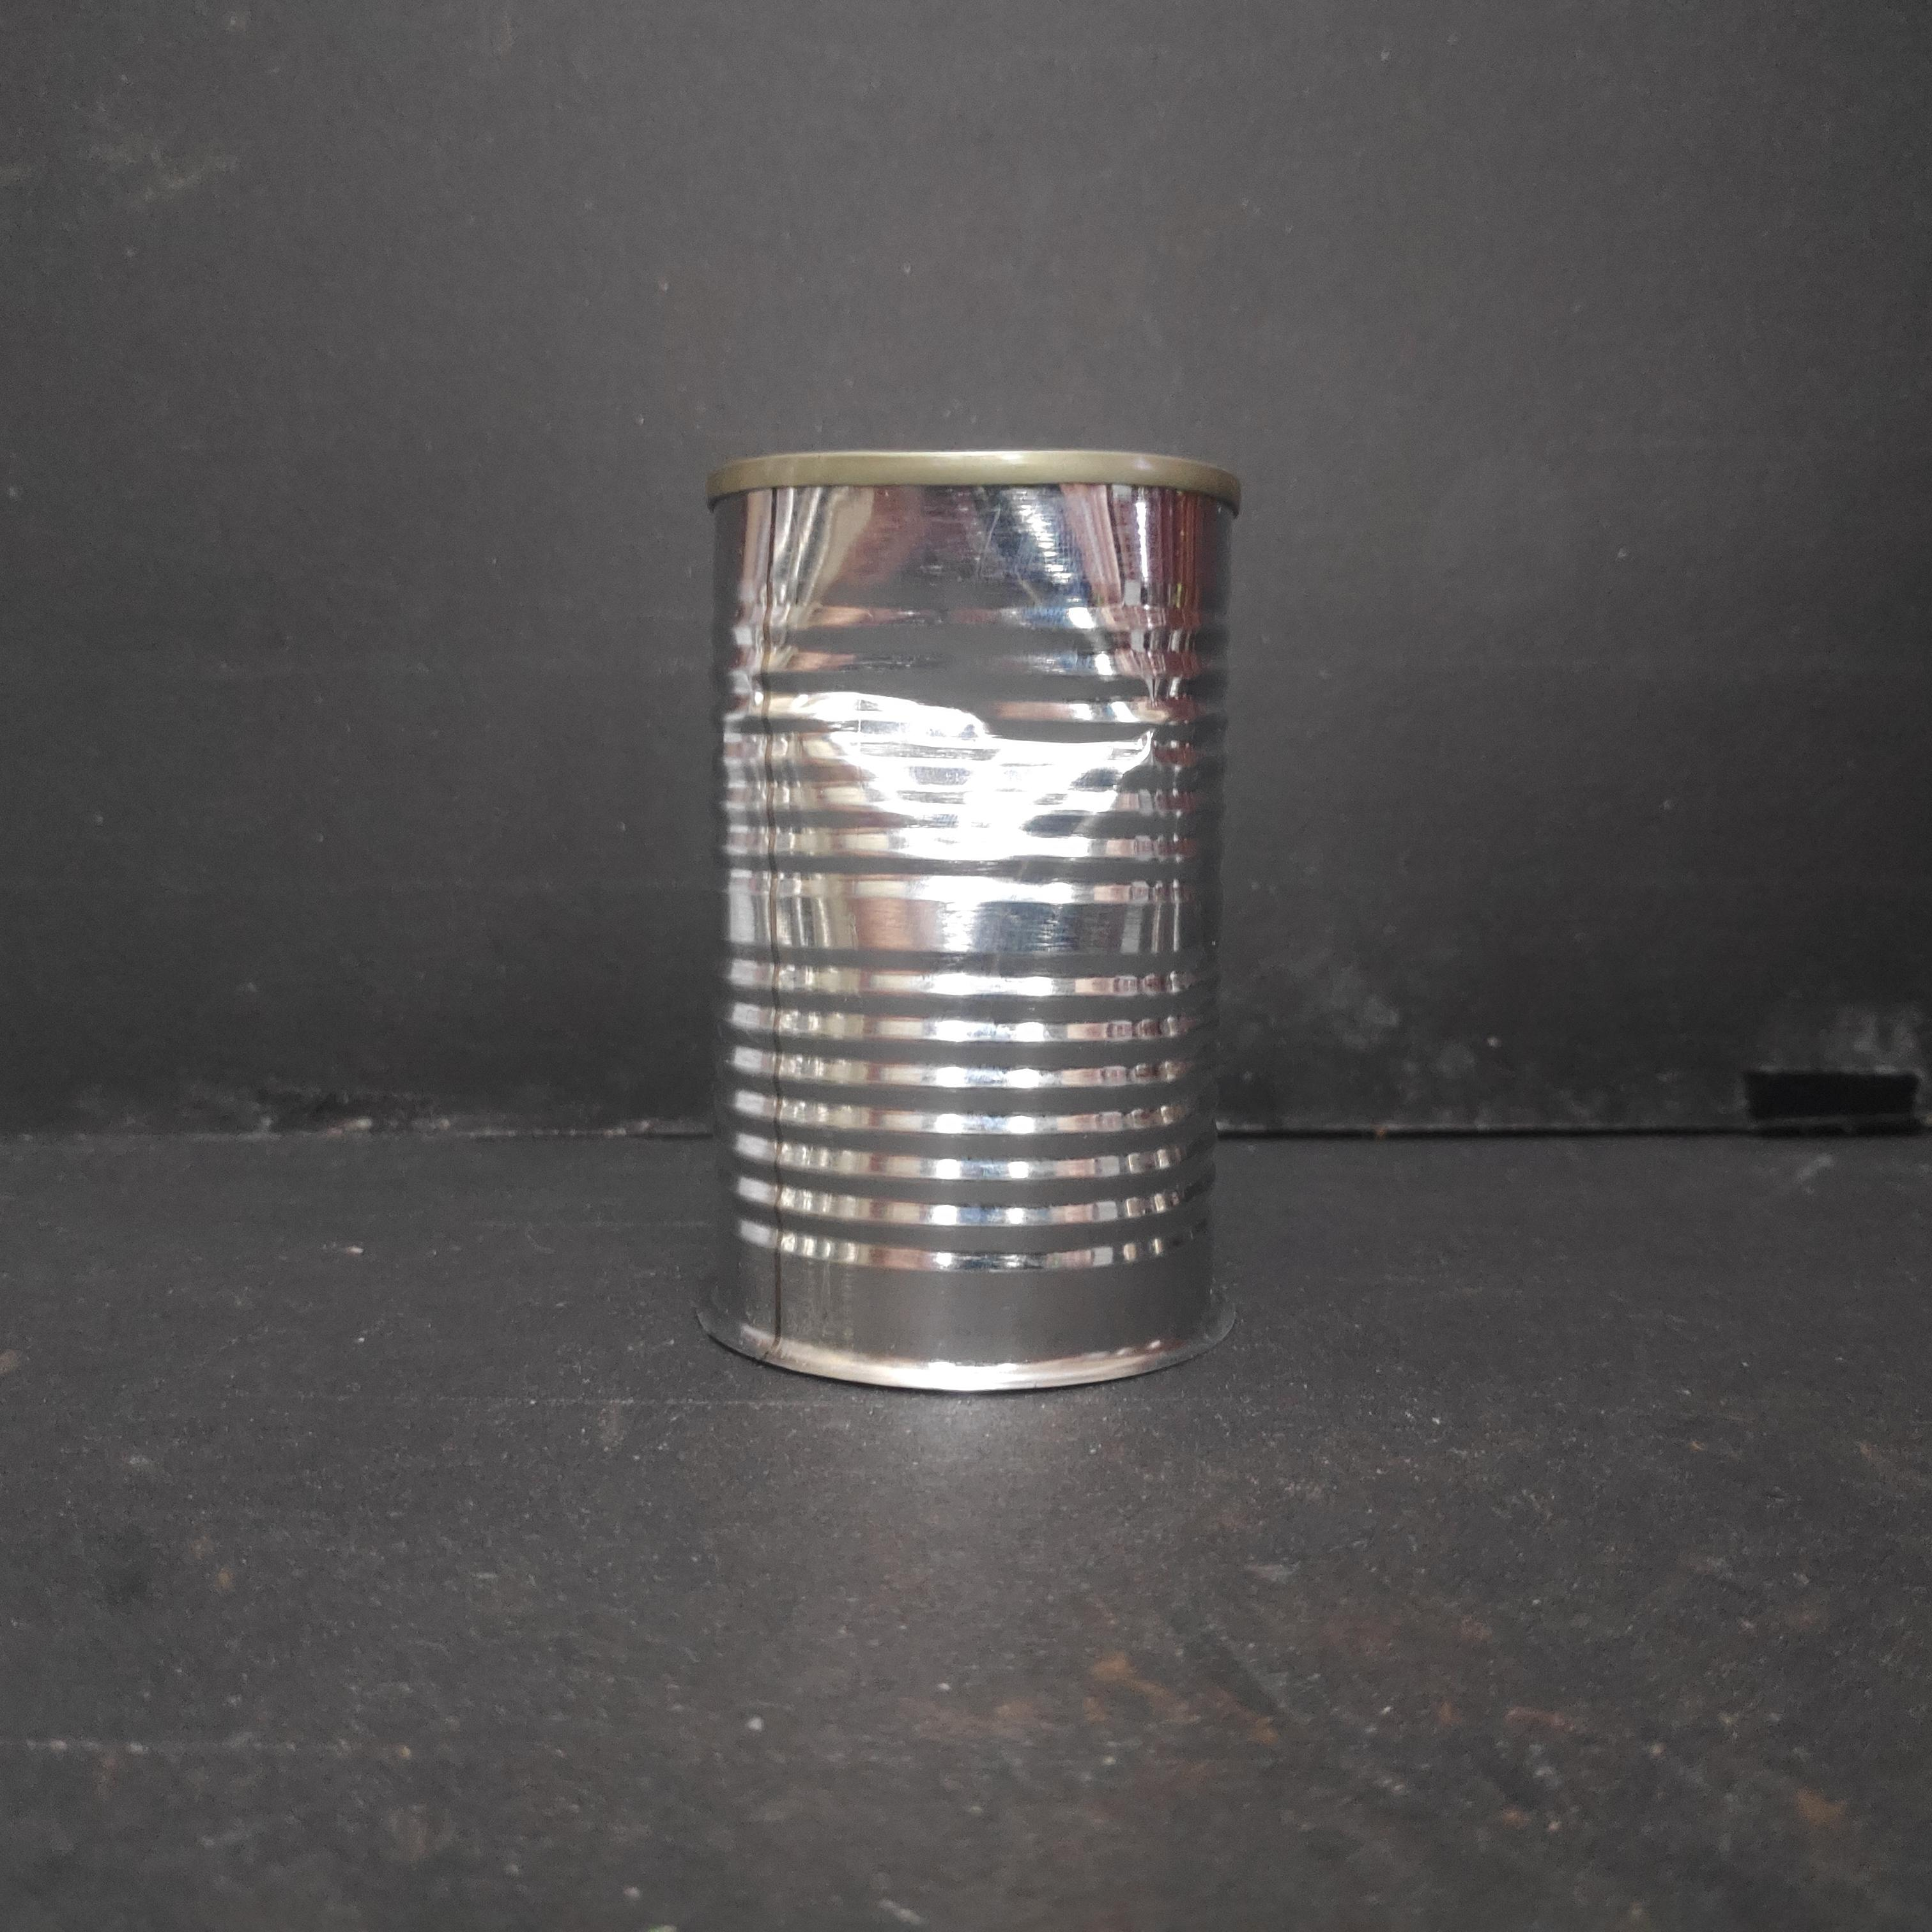Minor Defect: (697, 435, 1247, 1396)
